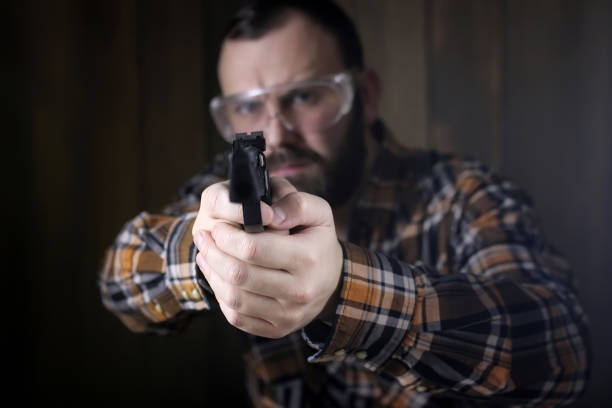gun: (228, 130, 270, 235)
